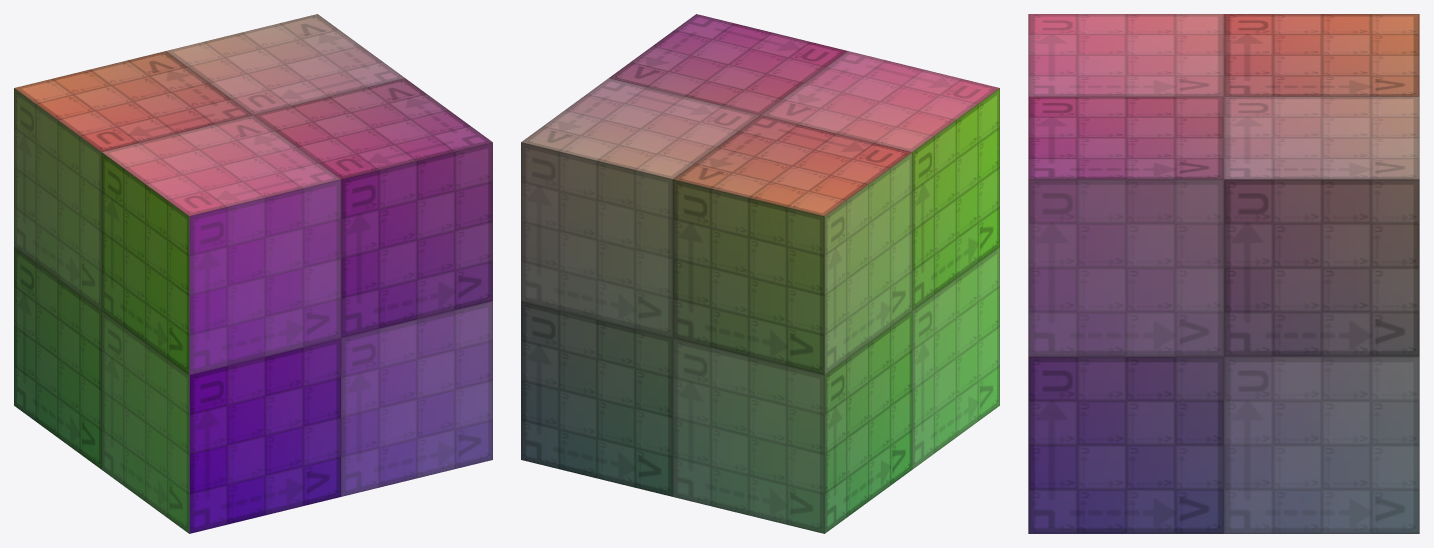
The model's file is cube_subdiv.glb.
The picture shows the model from 3 angles, left to right: view 1: azimuth 30°, elevation 25°; view 2: azimuth 150°, elevation 25°; view 3: azimuth 270°, elevation 25°; orthographic projection. The views are drawn at different scales.
Visible parts, largest first — view 1: Cube; view 2: Cube; view 3: Cube.
Part boxes in pixels (<box>): Cube: <box>14,14,492,533</box>; Cube: <box>521,14,999,533</box>; Cube: <box>1028,14,1419,533</box>.
Bounding box in the file's own units: 2 × 2 × 2.
1 material, 1 textured.
